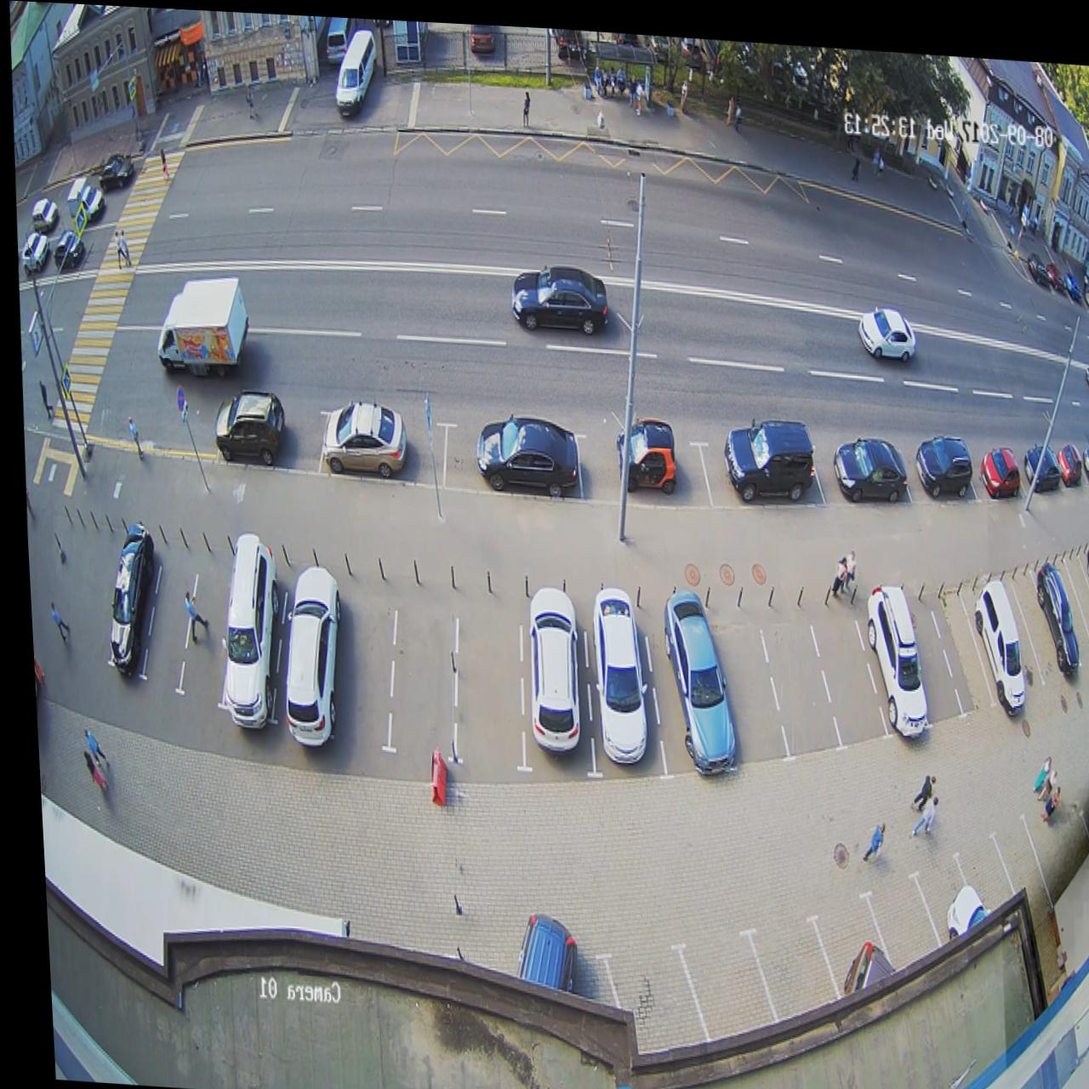cars: (273, 559, 364, 748), (640, 605, 739, 777), (211, 555, 302, 739), (518, 590, 604, 781), (581, 601, 665, 785), (388, 595, 467, 772), (842, 600, 937, 742), (315, 407, 449, 486), (581, 432, 704, 515), (443, 430, 573, 499), (107, 535, 160, 699), (964, 584, 1029, 717), (1019, 561, 1087, 688), (706, 435, 816, 512), (224, 393, 327, 473), (902, 443, 982, 512), (814, 450, 903, 502), (972, 456, 1030, 503)
empty: (451, 591, 529, 775), (703, 603, 792, 762), (323, 592, 407, 751), (177, 548, 258, 708), (803, 596, 891, 742), (756, 599, 841, 749), (922, 590, 1006, 731), (134, 551, 208, 697), (899, 590, 963, 723), (994, 580, 1048, 713), (1041, 552, 1089, 682), (1015, 582, 1068, 690), (1067, 548, 1089, 675)
